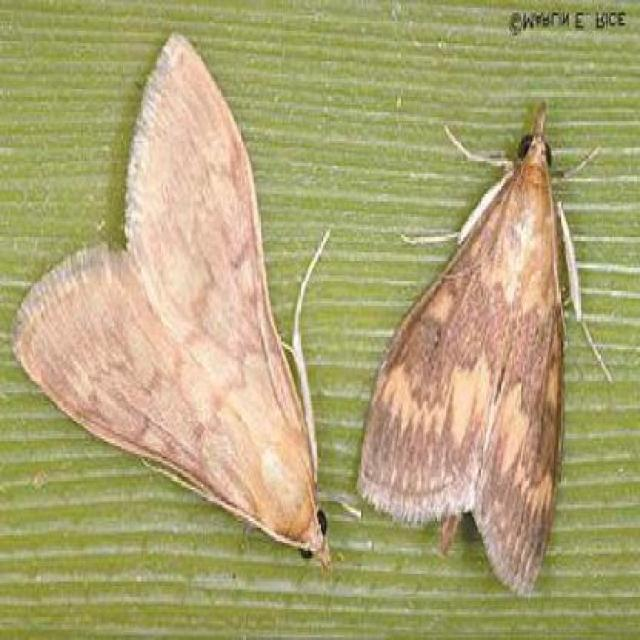stem-borer: (9, 31, 342, 578), (354, 99, 612, 602)
